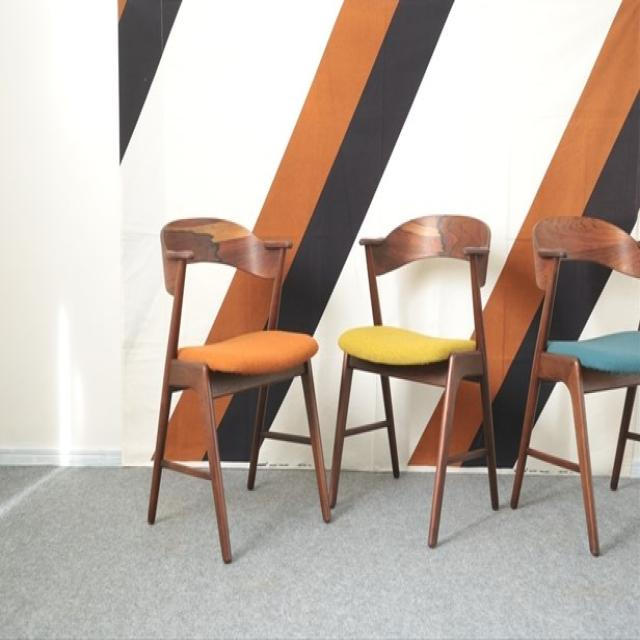chair vintage: (137, 211, 334, 569), (332, 202, 502, 543)
